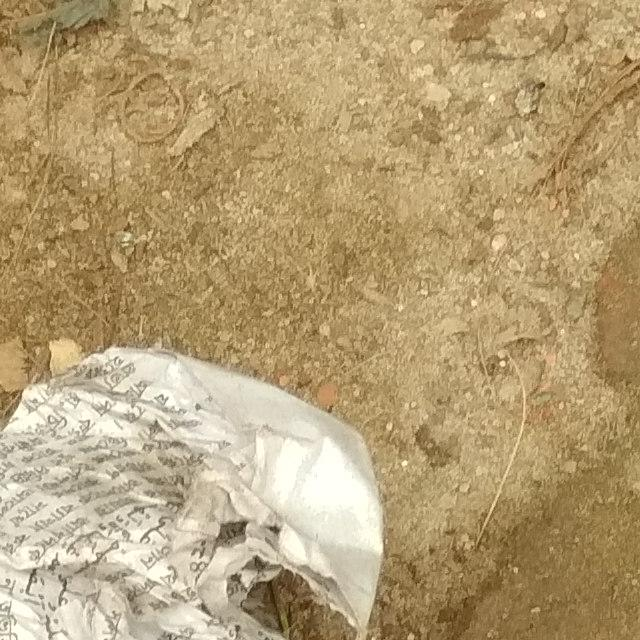paper: (0, 262, 498, 640)
